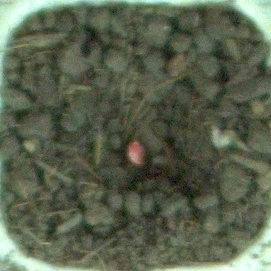pepper seed: (49, 57, 200, 222)
